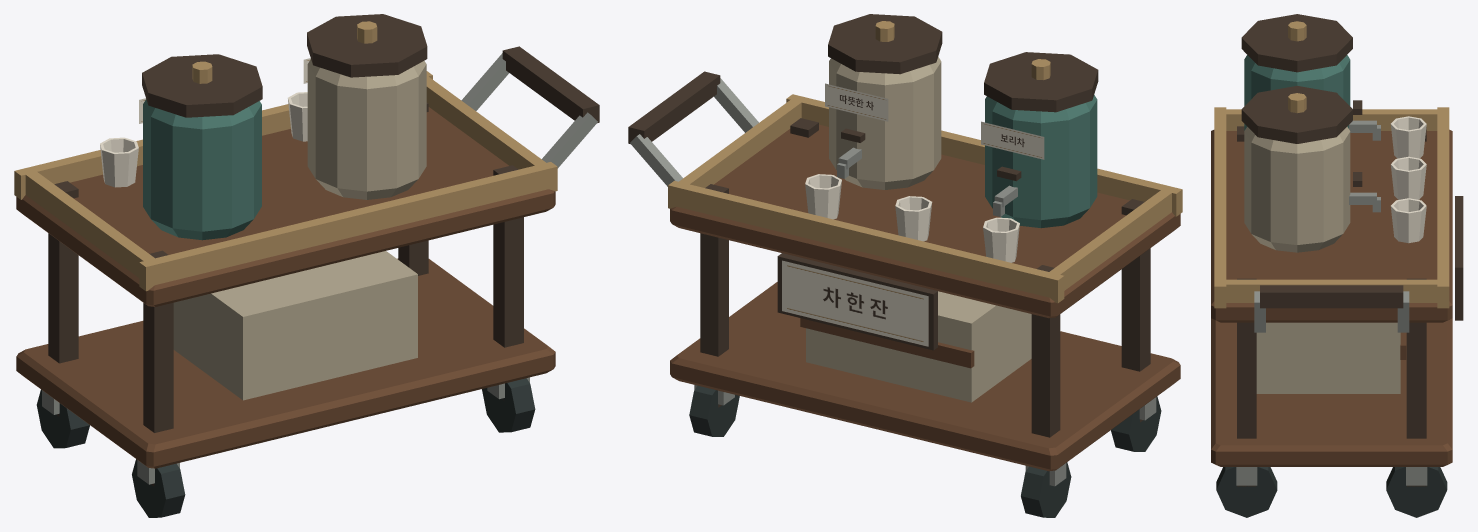
The model's file is F04_Tea_Sharing_Cart.fbx.
3 views of the same model, side by side, from view 1: azimuth 30°, elevation 25°; view 2: azimuth 150°, elevation 25°; view 3: azimuth 270°, elevation 25° (orthographic). The views are drawn at different scales.
Parts seen in each view (by area): view 1: Cart_Frame, Tea_Dispensers, Supply_Box, Push_Handle, Clean_Cups; view 2: Cart_Frame, Tea_Dispensers, Supply_Box, Front_Label, Push_Handle, Clean_Cups, Front_Urn_2, Front_Urn_1; view 3: Cart_Frame, Tea_Dispensers, Supply_Box, Push_Handle, Clean_Cups, Front_Label.
Boxes of the visible parts, left/top/right/bottom form: Cart_Frame: left=14, top=71, right=557, bottom=517; Tea_Dispensers: left=142, top=14, right=427, bottom=240; Supply_Box: left=173, top=251, right=417, bottom=400; Push_Handle: left=461, top=46, right=599, bottom=168; Clean_Cups: left=100, top=92, right=307, bottom=187; Cart_Frame: left=668, top=94, right=1182, bottom=517; Tea_Dispensers: left=828, top=14, right=1098, bottom=228; Supply_Box: left=800, top=291, right=1031, bottom=402; Front_Label: left=777, top=253, right=937, bottom=350; Push_Handle: left=628, top=71, right=758, bottom=186; Clean_Cups: left=805, top=174, right=1019, bottom=262; Front_Urn_2: left=825, top=83, right=888, bottom=121; Front_Urn_1: left=981, top=121, right=1044, bottom=159; Cart_Frame: left=1211, top=107, right=1452, bottom=517; Tea_Dispensers: left=1241, top=14, right=1380, bottom=252; Supply_Box: left=1256, top=322, right=1406, bottom=393; Push_Handle: left=1254, top=285, right=1409, bottom=332; Clean_Cups: left=1390, top=116, right=1426, bottom=243; Front_Label: left=1455, top=196, right=1463, bottom=320.
Size of the model in its own units: 1.86 by 1.53 by 0.953.
9 materials, 1 textured.
